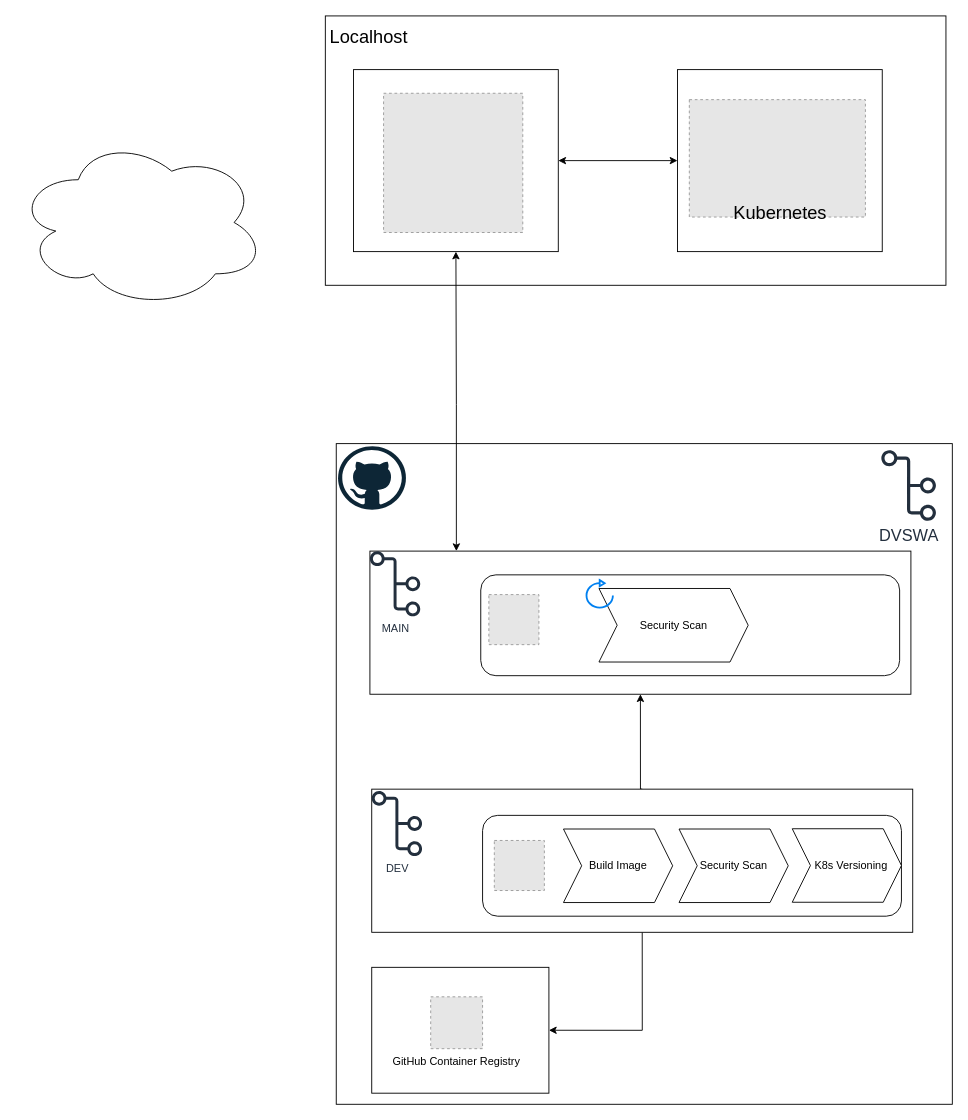
Some shapes in this 968 by 1120 pixel diagram are drawn without their labels. Grey dashed boxes stand in for pictures. The shapes that lost their labels are listed below. From the top down, each one's centre as x and y in pixels, then its label:
At (140,222): "SonarCloud".
At (599,593): "Daily".
